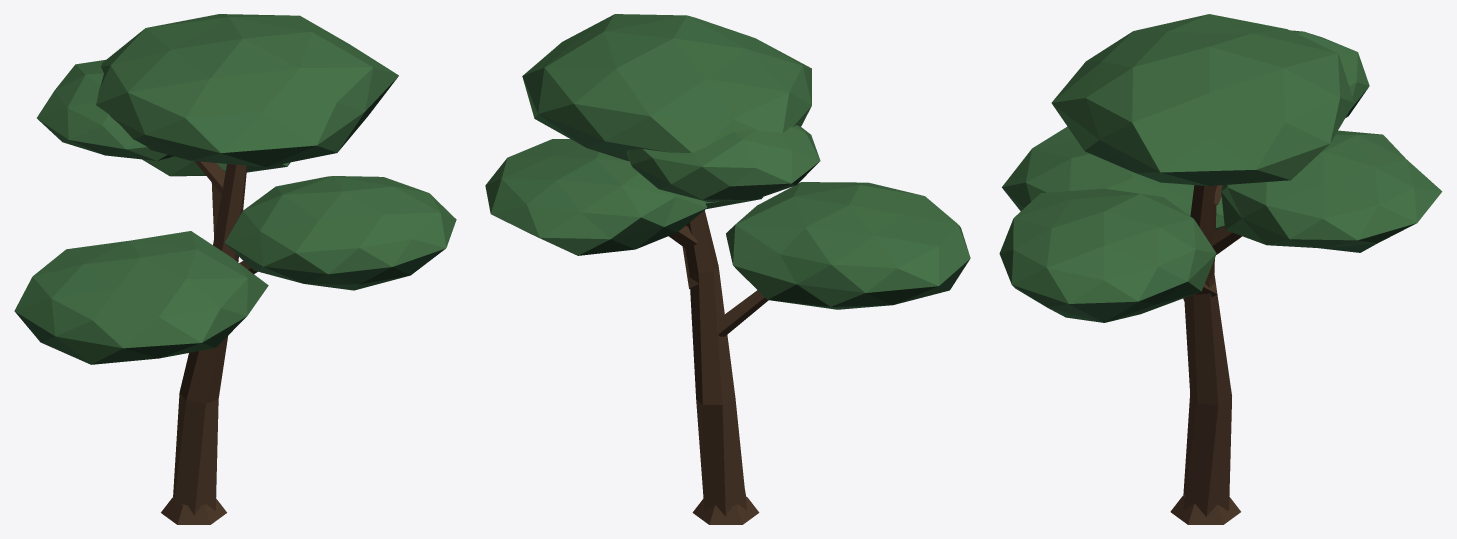
The model's file is pine_a.glb.
3 renders of one model, left to right at view 1: azimuth 30°, elevation 25°; view 2: azimuth 150°, elevation 25°; view 3: azimuth 270°, elevation 25°, orthographic. The views are drawn at different scales.
Parts seen in each view (by area): view 1: pine_a; view 2: pine_a; view 3: pine_a.
Part boxes in pixels (<box>): pine_a: <box>14,14,456,524</box>; pine_a: <box>485,14,970,524</box>; pine_a: <box>999,14,1442,524</box>.
Bounding box in the file's own units: 2.73 × 3.06 × 2.49.
